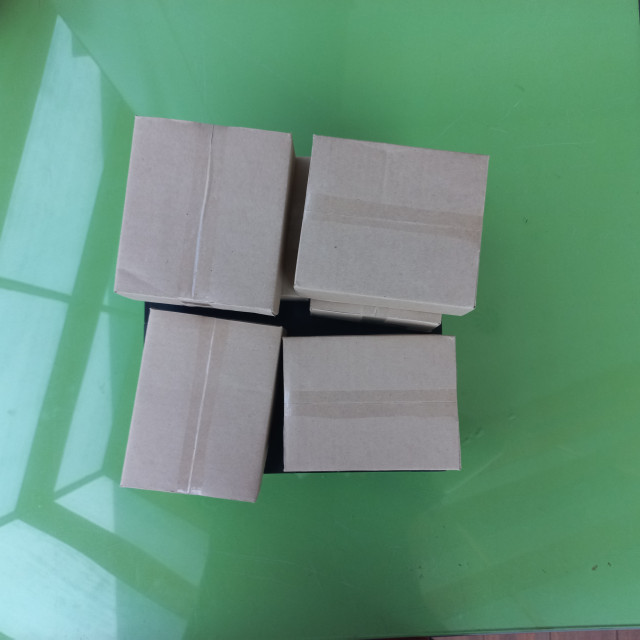box: (290, 129, 494, 322), (111, 113, 297, 317), (117, 303, 285, 506), (276, 327, 466, 476)
